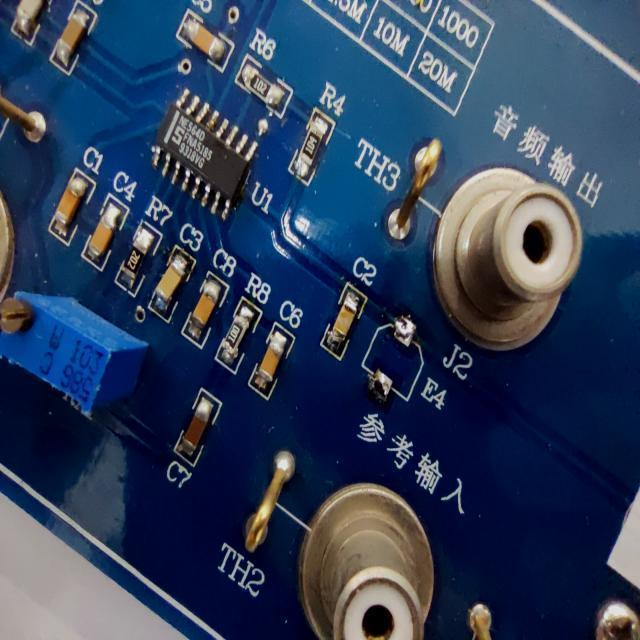Missing component: (357, 297, 461, 428)
